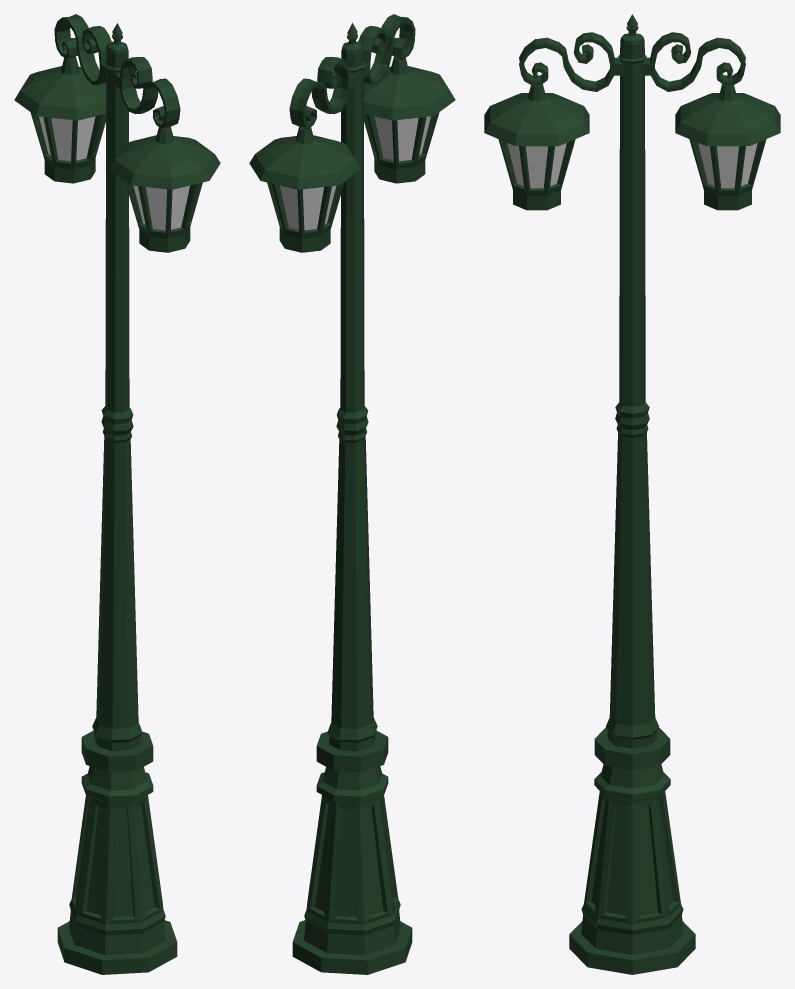
The model's file is Streetlight_Double.glb.
The picture shows the model from 3 angles, left to right: view 1: azimuth 30°, elevation 25°; view 2: azimuth 150°, elevation 25°; view 3: azimuth 270°, elevation 25°; orthographic projection.
Visible parts, largest first — view 1: Streetlight_Double; view 2: Streetlight_Double; view 3: Streetlight_Double.
Part boxes in pixels (<box>): Streetlight_Double: <box>14,14,220,974</box>; Streetlight_Double: <box>249,14,455,974</box>; Streetlight_Double: <box>484,14,780,974</box>.
Bounding box in the file's own units: 0.1317 × 1.1 × 0.3157.
